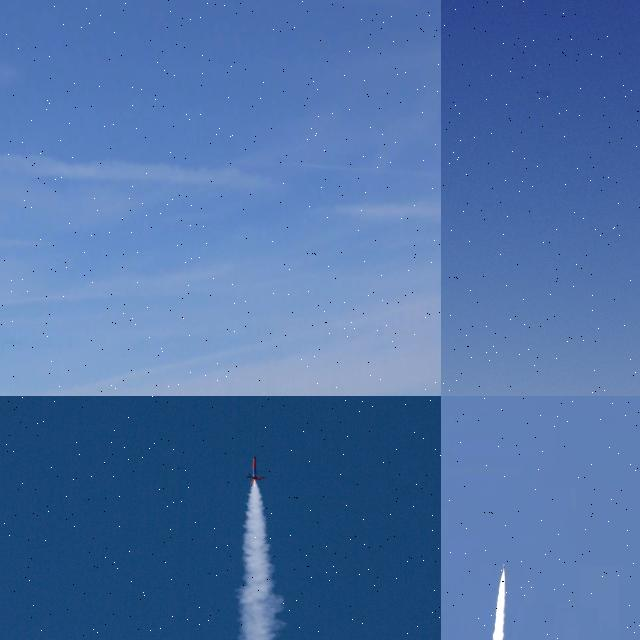Rocket: (245, 455, 266, 485), (502, 562, 506, 574)
